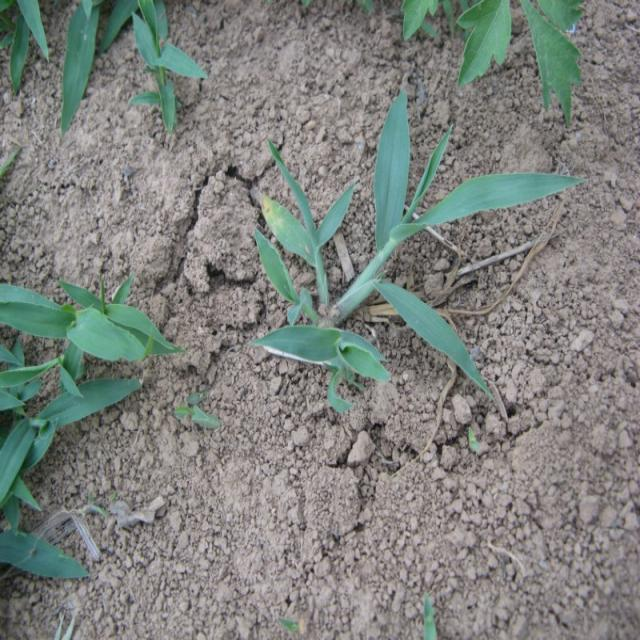bg: (254, 88, 584, 399)
